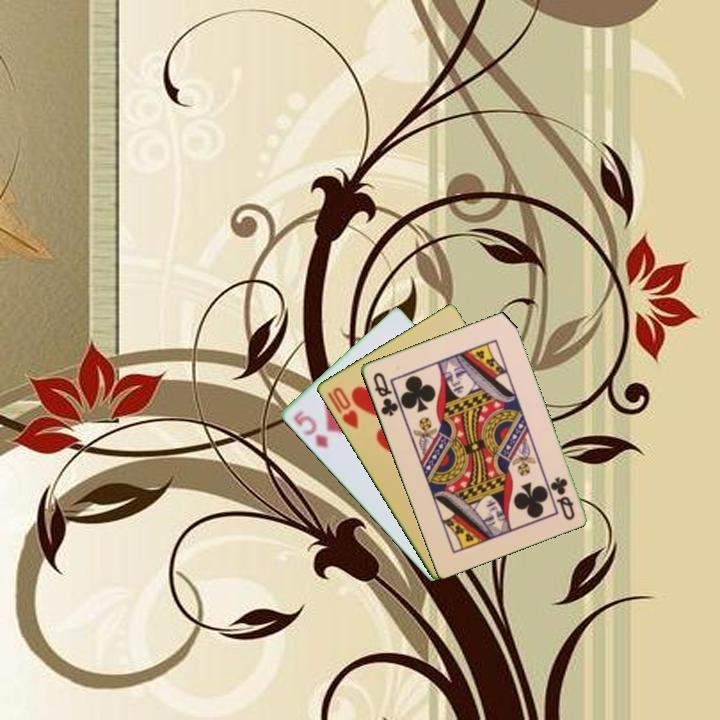10h: (328, 383, 361, 432)
5d: (290, 406, 331, 451)
Qc: (369, 368, 401, 419), (547, 473, 577, 523)
